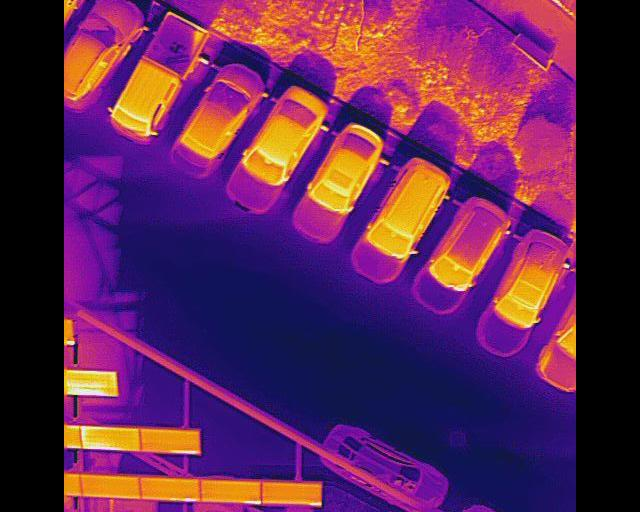No-Anomaly: (140, 475, 202, 500), (260, 481, 323, 505), (199, 478, 262, 502), (82, 474, 142, 497)
Unclassified: (79, 426, 141, 450), (140, 428, 200, 452), (65, 371, 117, 397)
